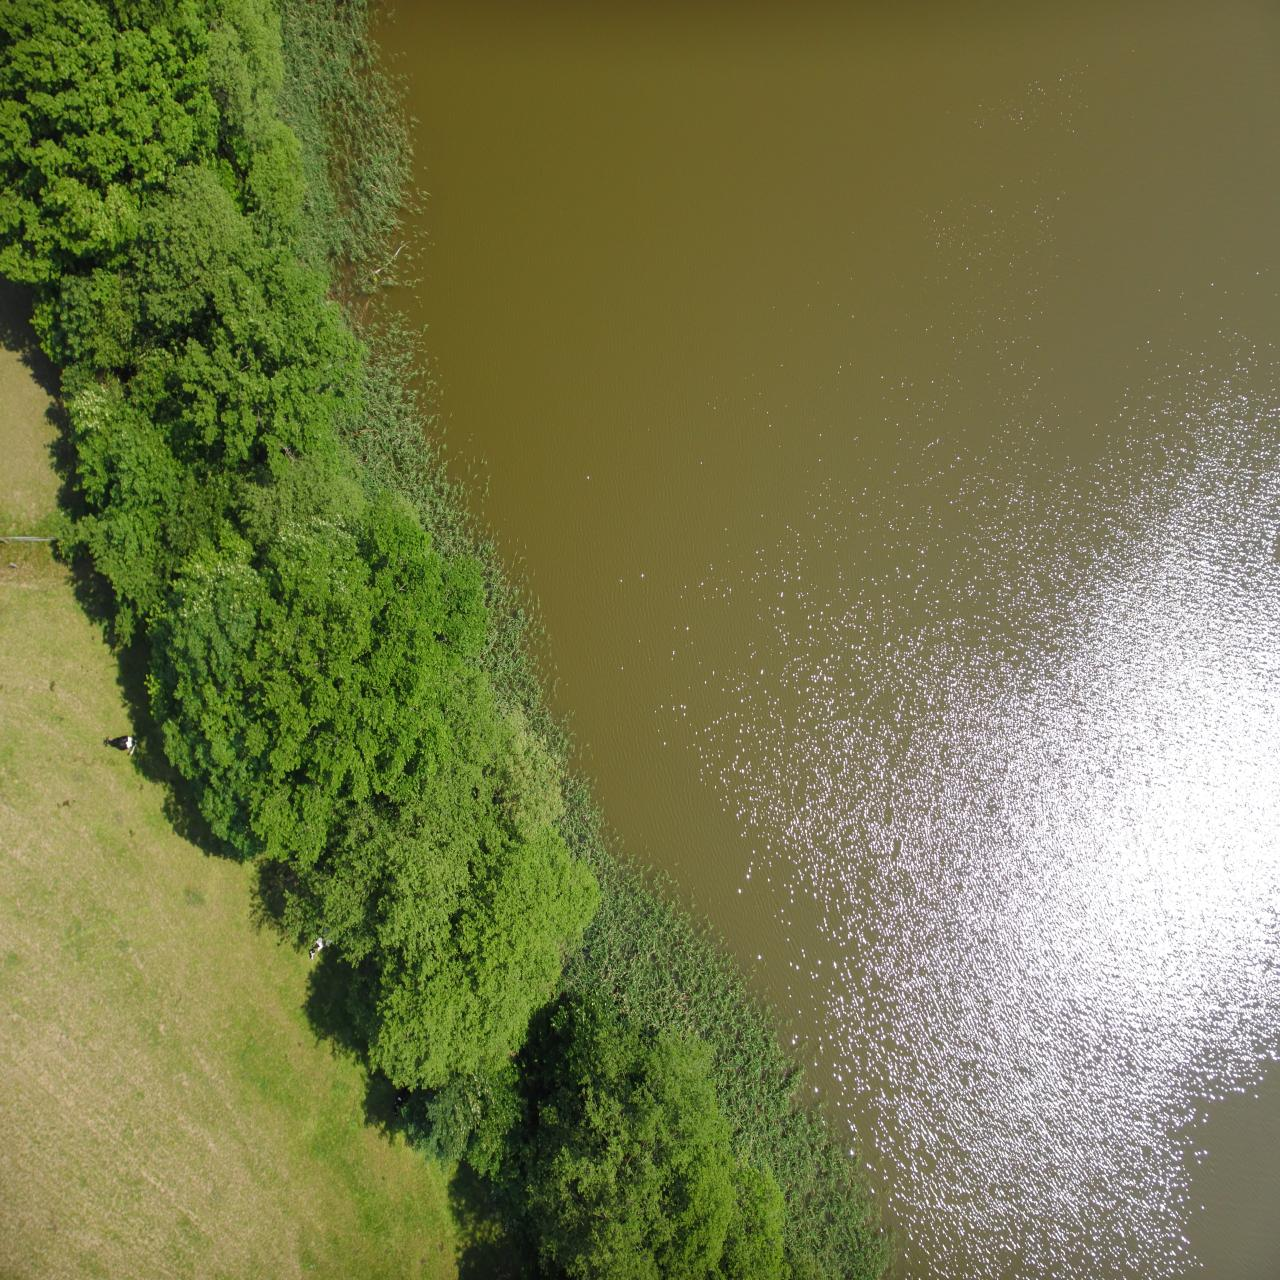cow: (1143, 524, 1176, 545), (948, 321, 971, 343)
